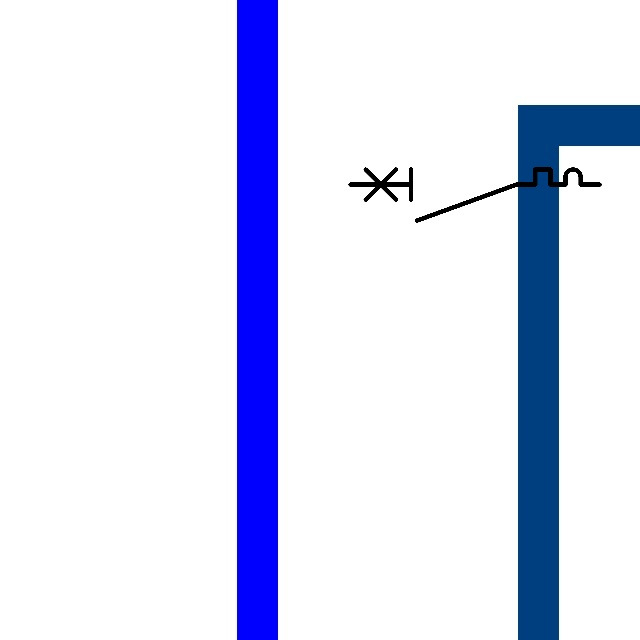interruptor_termomagnetico: (344, 163, 606, 227)
